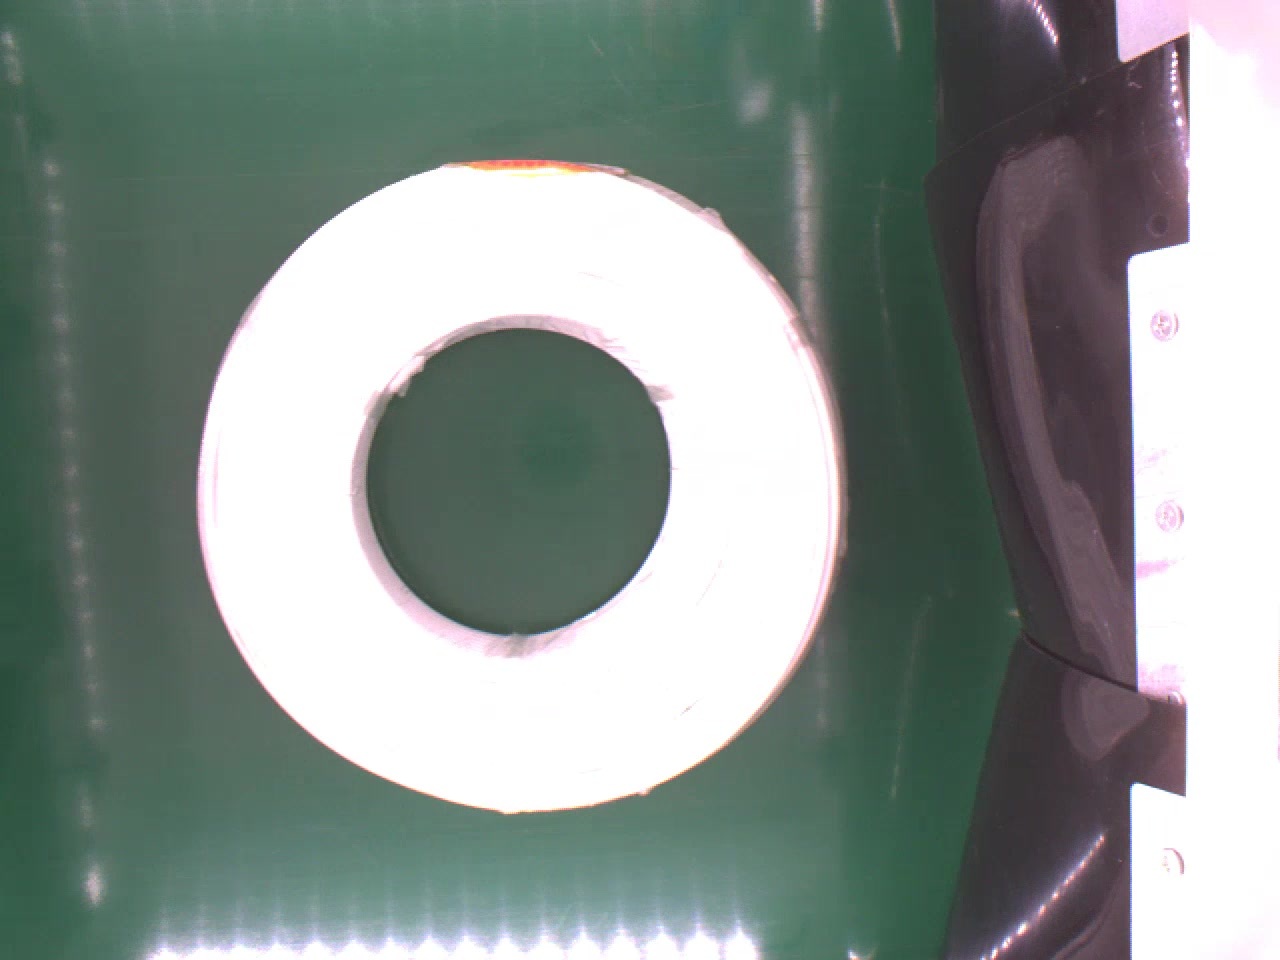white: (193, 153, 869, 821)
